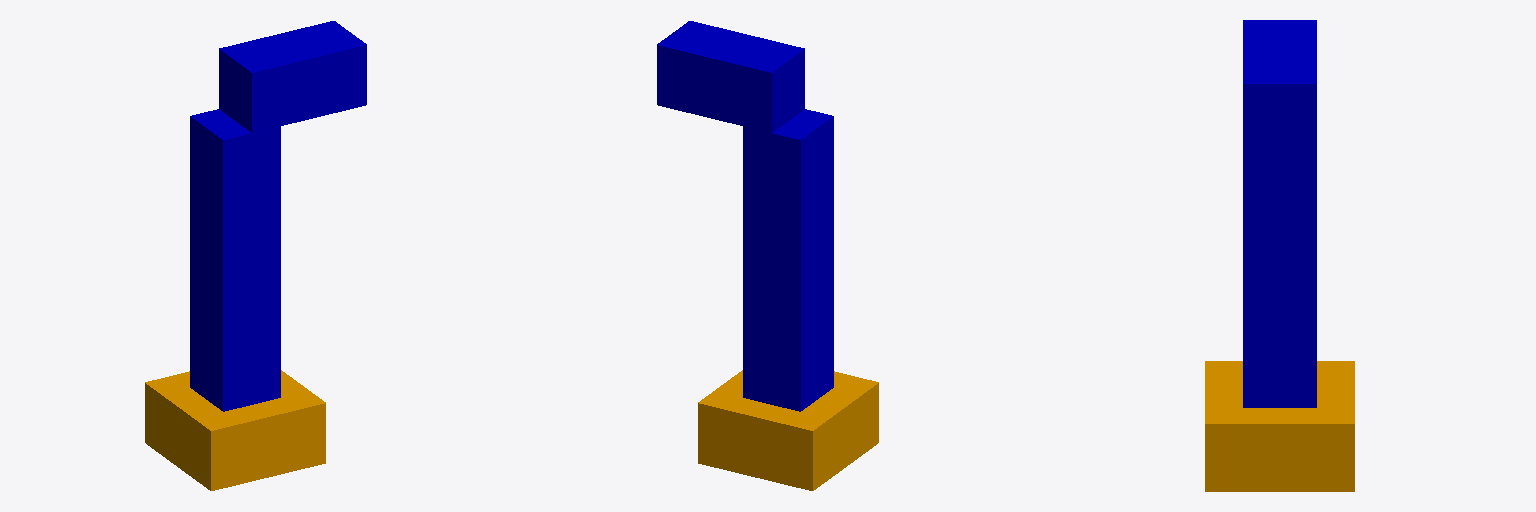
robot.urdf — myfirstrobot:
<?xml version="1.0"?>
<robot name="myfirstrobot">

    <link name="base_link">

        <inertial>
            <origin xyz="0 0 0.1"/>
            <mass value="10.0"/>
            <inertia ixx="1.0" ixy="0.0" ixz="0.0"
                iyy="1.0" iyz="0.0" izz="1.0"/>
        </inertial>

        <visual>
            <origin xyz="0 0 0.1"/>
            <geometry>
                <box size="0.4 0.4 0.2"/>
            </geometry>
        </visual>

        <collision>
            <origin xyz="0 0 0.1"/>
            <geometry>
                <box size="0.4 0.4 0.2"/>
            </geometry>
        </collision>

    </link>

    <link name="body_link">

        <inertial>
            <origin xyz="-0.05 0 0.5"/>
            <mass value="1.0"/>
            <inertia ixx="1.0" ixy="0.0" ixz="0.0"
                iyy="1.0" iyz="0.0" izz="1.0"/>
        </inertial>

        <visual>
            <origin xyz="-0.05 0 0.5"/>
            <geometry>
                <box size="0.2 0.2 1"/>
            </geometry>
            <material name="blue">
                <color rgba="0 0 0.8 1"/>
            </material>
        </visual>

        <collision>
            <origin xyz="-0.05 0 0.5"/>
            <geometry>
                <box size="0.2 0.2 1"/>
            </geometry>
        </collision>

    </link>

    <link name="top_link">

        <inertial>
            <origin xyz="0.1 0 1"/>
            <mass value="1.0"/>
            <inertia ixx="1.0" ixy="0.0" ixz="0.0"
                iyy="1.0" iyz="0.0" izz="1.0"/>
        </inertial>

        <visual>
            <origin xyz="0.1 0 1"/>
            <geometry>
                <box size="0.4 0.2 0.2"/>
            </geometry>
            <material name="blue">
                <color rgba="0 0 0.8 1"/>
            </material>
        </visual>

        <collision>
            <origin xyz="0.1 0 1"/>
            <geometry>
                <box size="0.4 0.2 0.2"/>
            </geometry>
        </collision>

    </link>

    <joint name="base_to_body" type="revolute">
        <parent link="base_link"/>
        <child link="body_link"/>
        <dynamics damping="0.0" friction="0.0001"/>

        <origin xyz="0.05 0 0.1"/>
        <axis xyz="0.1 0 0"/>

        <limit lower="-1" upper="1" effort="10.0" velocity="0.5"/>
    </joint>

    <joint name="body_to_top" type="continuous">
        <parent link="body_link"/>
        <child link="top_link"/>
        <dynamics damping="0.0" friction="0.0001"/>

        <origin xyz="0.05 0 0.1"/>
        <axis xyz="0 0 0.1"/>
    </joint>

</robot>

--- Render facts (derived) ---
Views: 3 orthographic renders of the robot side by side, from view 1: azimuth 30°, elevation 25°; view 2: azimuth 150°, elevation 25°; view 3: azimuth 270°, elevation 25°.
Model myfirstrobot with 3 links and 2 joints (1 revolute, 1 continuous), rooted at base_link, posed all joints at 0.
Links seen in each view (by area): view 1: body_link, base_link, top_link; view 2: body_link, base_link, top_link; view 3: body_link, base_link, top_link.
Boxes of the visible links, bbox=[...] form: body_link: bbox=[190, 109, 280, 411]; base_link: bbox=[145, 370, 325, 490]; top_link: bbox=[219, 21, 366, 132]; body_link: bbox=[743, 109, 833, 411]; base_link: bbox=[698, 370, 878, 490]; top_link: bbox=[657, 21, 804, 132]; body_link: bbox=[1243, 151, 1316, 407]; base_link: bbox=[1205, 361, 1354, 491]; top_link: bbox=[1243, 20, 1316, 150].
Bounding box of the posed robot: 0.6 × 0.4 × 1.3 m (x, y, z).
Geometry: primitives only (box / cylinder / sphere), no mesh files.